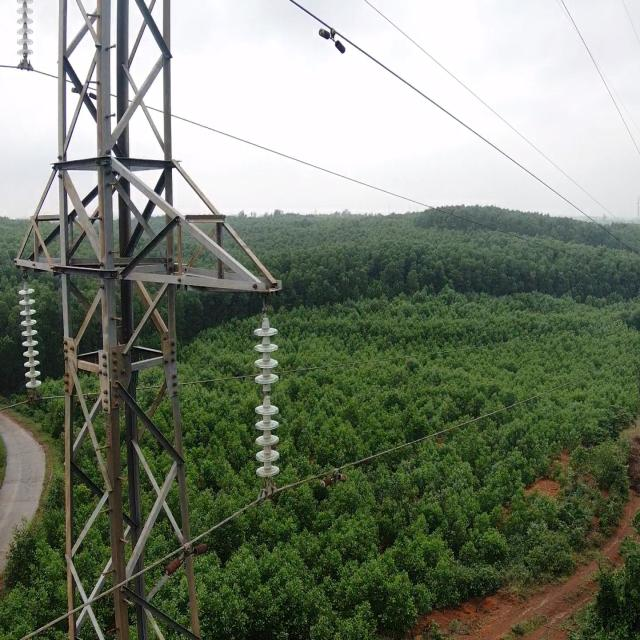杆塔: (12, 0, 284, 632)
正常电缆: (21, 341, 640, 637), (0, 64, 638, 285), (283, 1, 638, 262), (374, 5, 511, 132), (552, 0, 639, 165)
正常绝缘子: (251, 303, 282, 499), (14, 266, 45, 404), (11, 1, 39, 77)
绝缘子破损: (261, 388, 272, 402)
